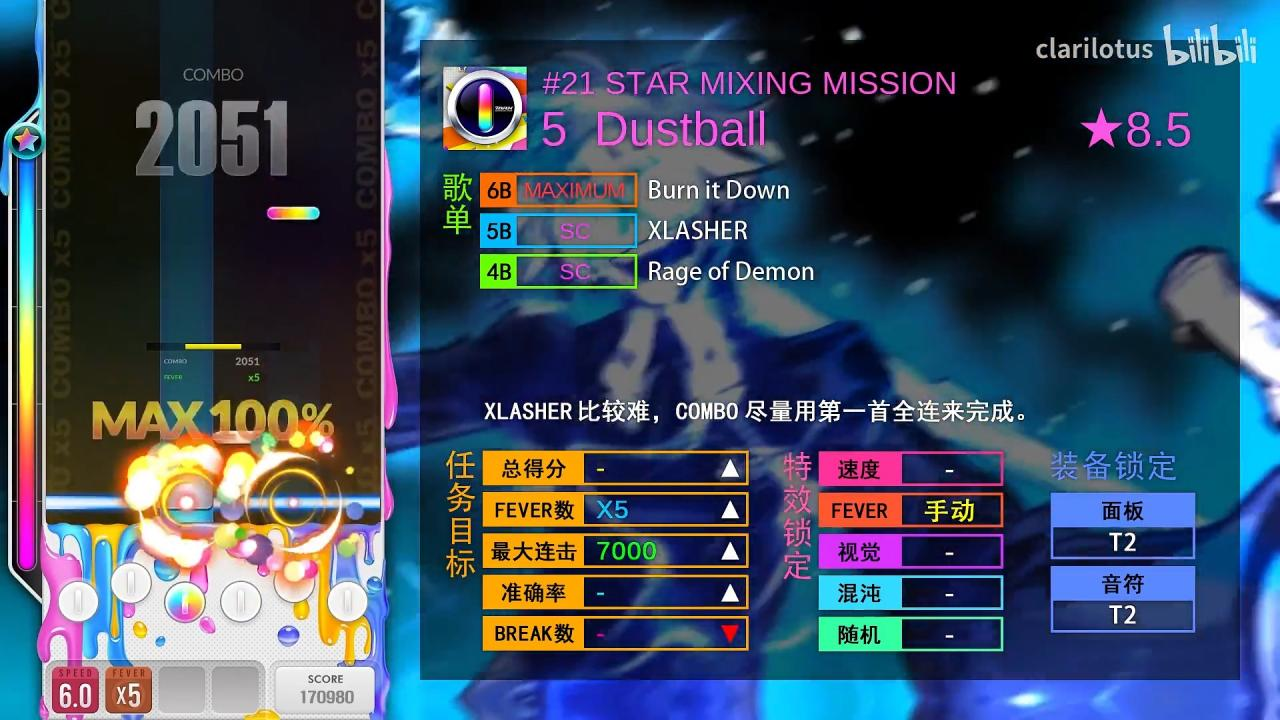note: (268, 206, 319, 220), (214, 430, 267, 443)
